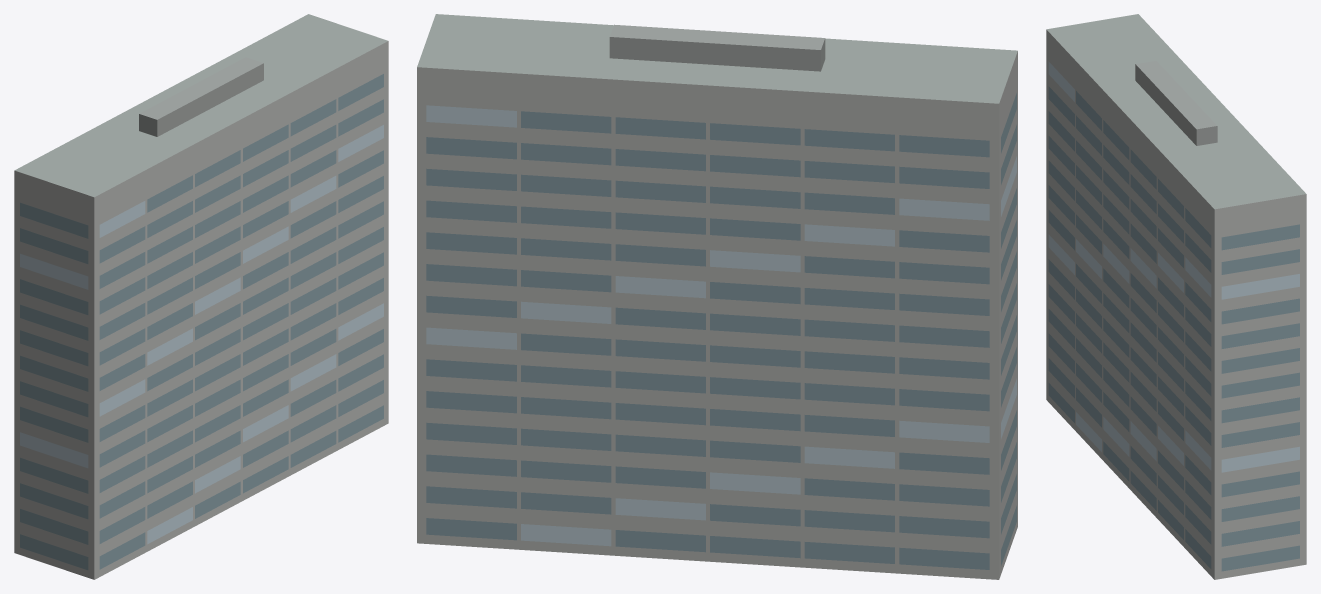
Rendered from apt-a15885306.glb.
The picture shows the model from 3 angles, left to right: view 1: azimuth 30°, elevation 25°; view 2: azimuth 150°, elevation 25°; view 3: azimuth 270°, elevation 25°; orthographic projection. The views are drawn at different scales.
Visible parts, largest first — view 1: apt-a15885306; view 2: apt-a15885306; view 3: apt-a15885306.
Part boxes in pixels (x1,y1,x2,y2): apt-a15885306: (14, 14, 388, 579); apt-a15885306: (417, 14, 1017, 579); apt-a15885306: (1046, 14, 1306, 579).
Bounding box in the file's own units: 51.73 × 47.81 × 29.12.
